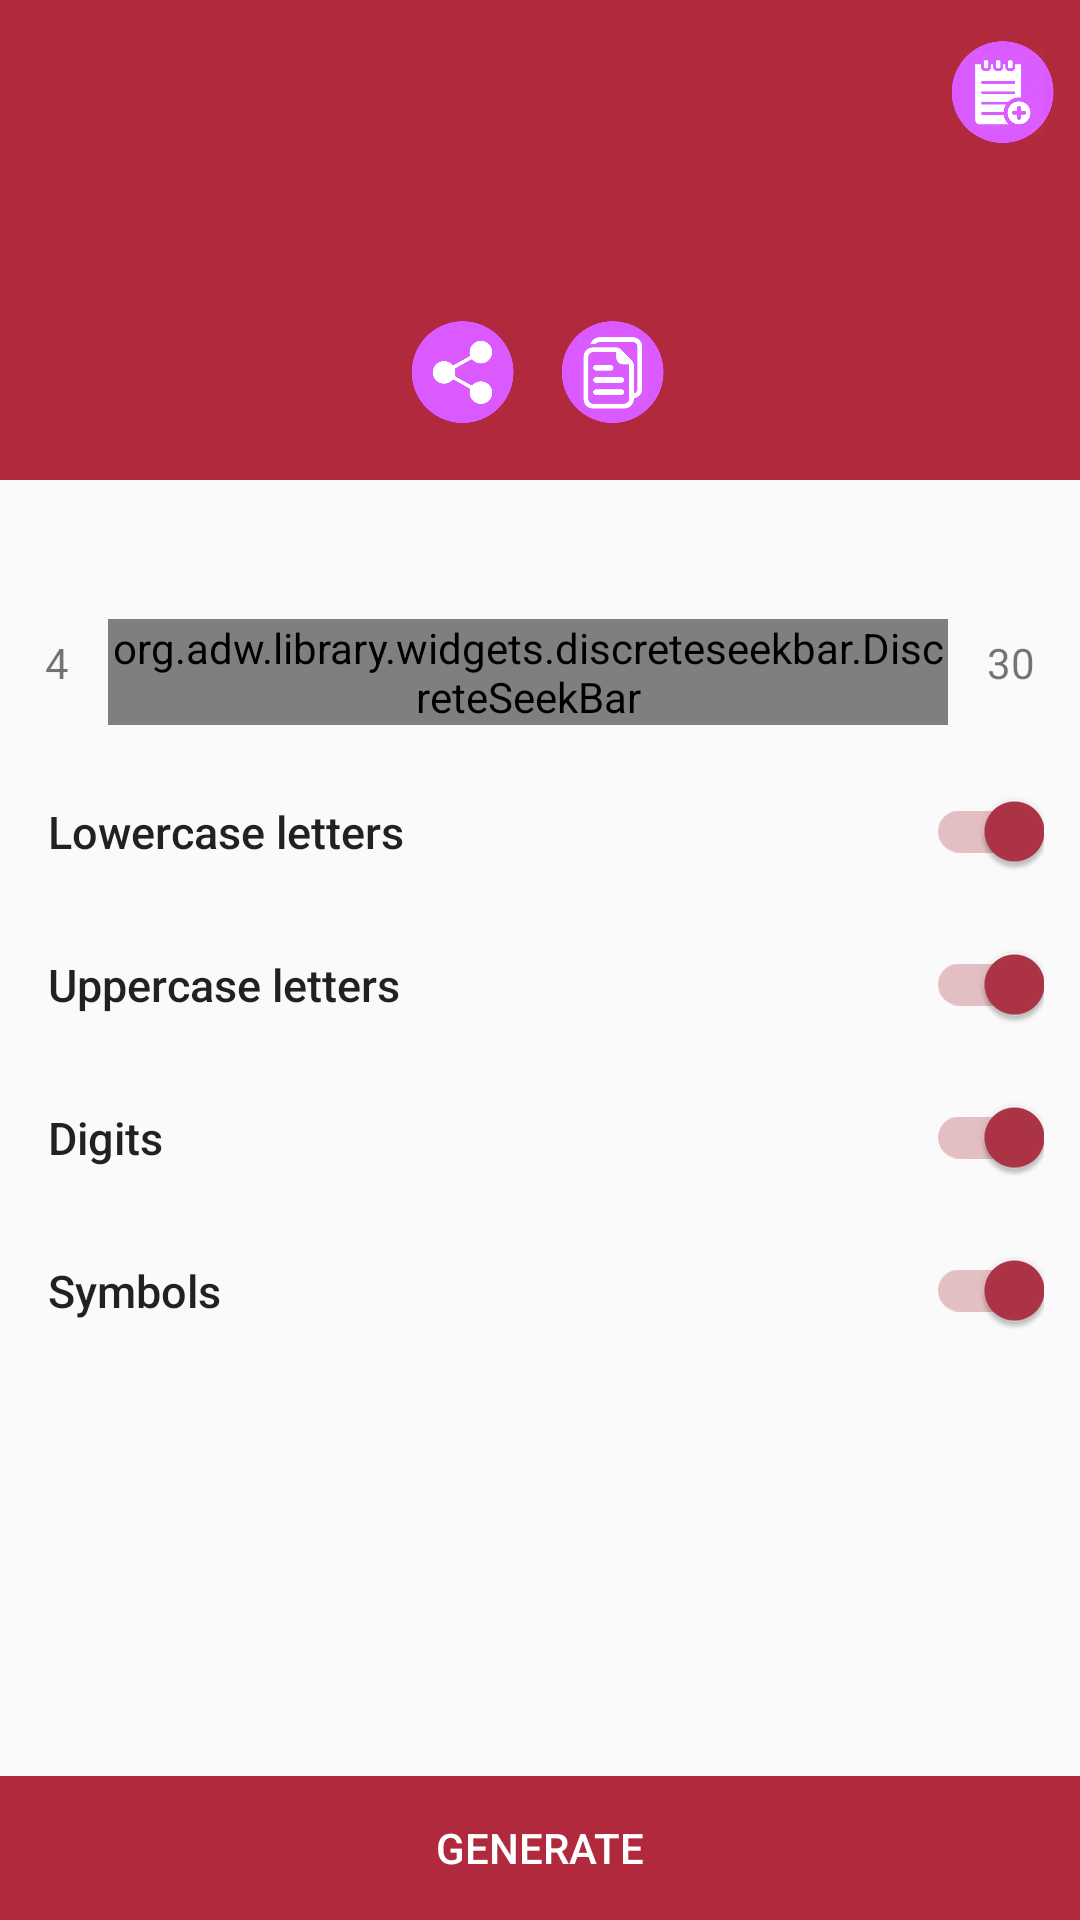

Screen size 1080*1920. Icon name, then its center in pixels as point (x, y):
add note: point (1003, 92)
share: point (463, 372)
